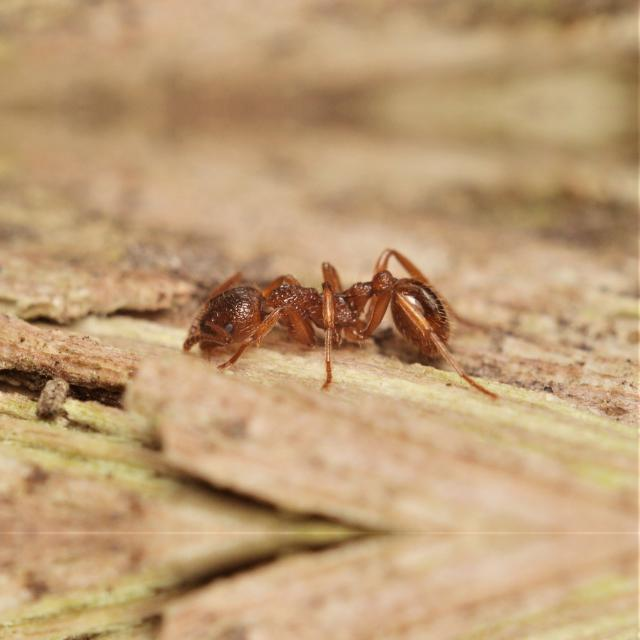Myrmica: (178, 210, 484, 414)
